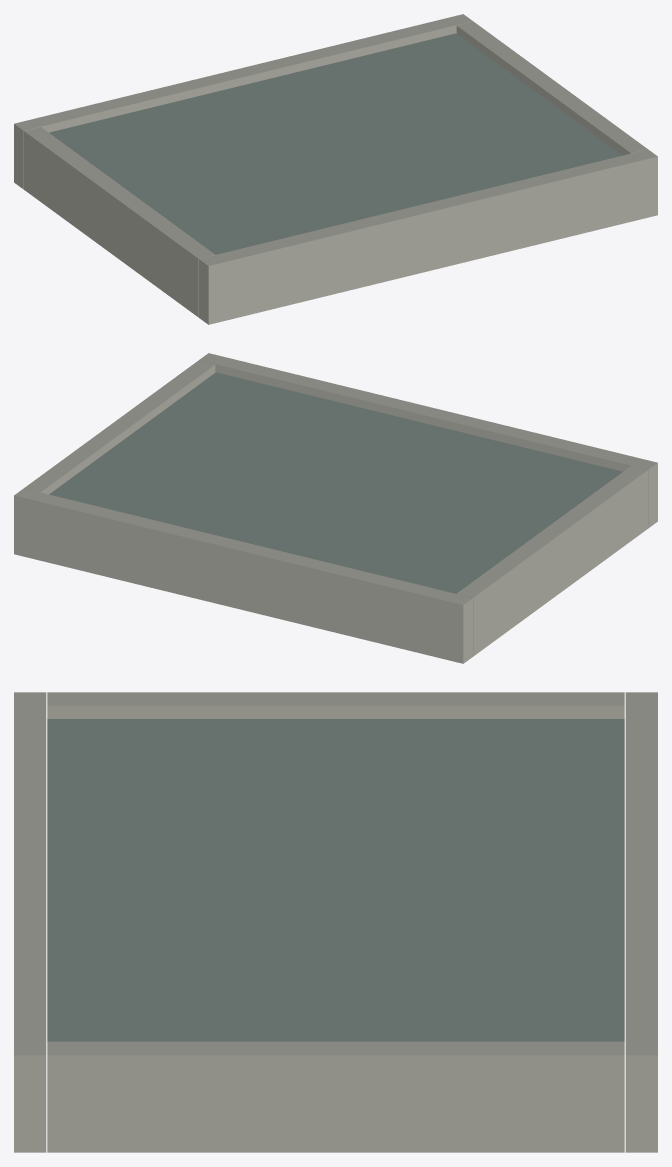
Rendered from SM_Balsa_v0_Llena_LOD0.fbx.
3 renders of one model, top to bottom at view 1: azimuth 30°, elevation 25°; view 2: azimuth 150°, elevation 25°; view 3: azimuth 270°, elevation 25°, orthographic. The views are drawn at different scales.
Parts seen in each view (by area): view 1: SM_huerta_nules_v10_LOD0; view 2: SM_huerta_nules_v10_LOD0; view 3: SM_huerta_nules_v10_LOD0.
Part boxes in pixels (x1=…): SM_huerta_nules_v10_LOD0: x1=14, y1=14, x2=657, y2=324; SM_huerta_nules_v10_LOD0: x1=14, y1=353, x2=657, y2=663; SM_huerta_nules_v10_LOD0: x1=14, y1=692, x2=657, y2=1152.
Bounding box in the file's own units: 8 × 1 × 6.
